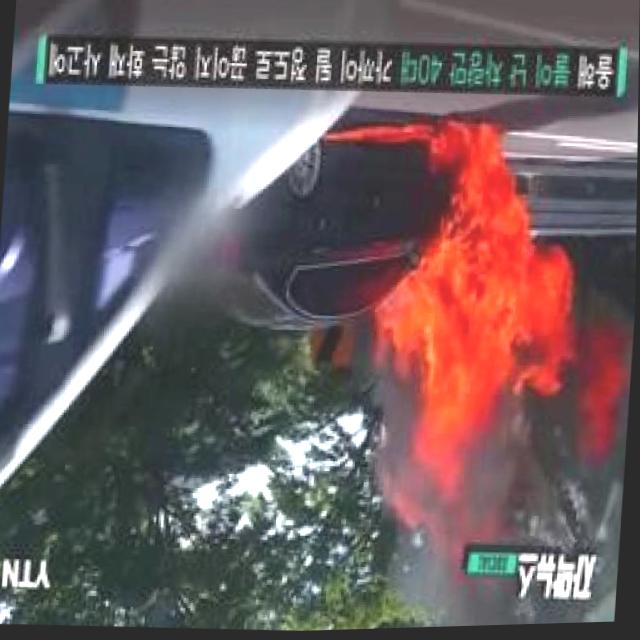helmet: (304, 109, 639, 562)
